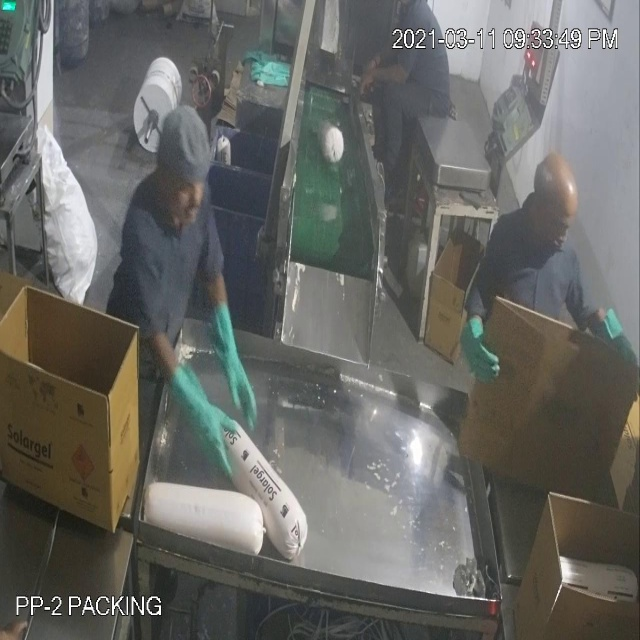Guantes: (168, 357, 255, 489), (205, 295, 270, 436), (447, 308, 514, 387)
Sin_guantes: (348, 54, 404, 105)
